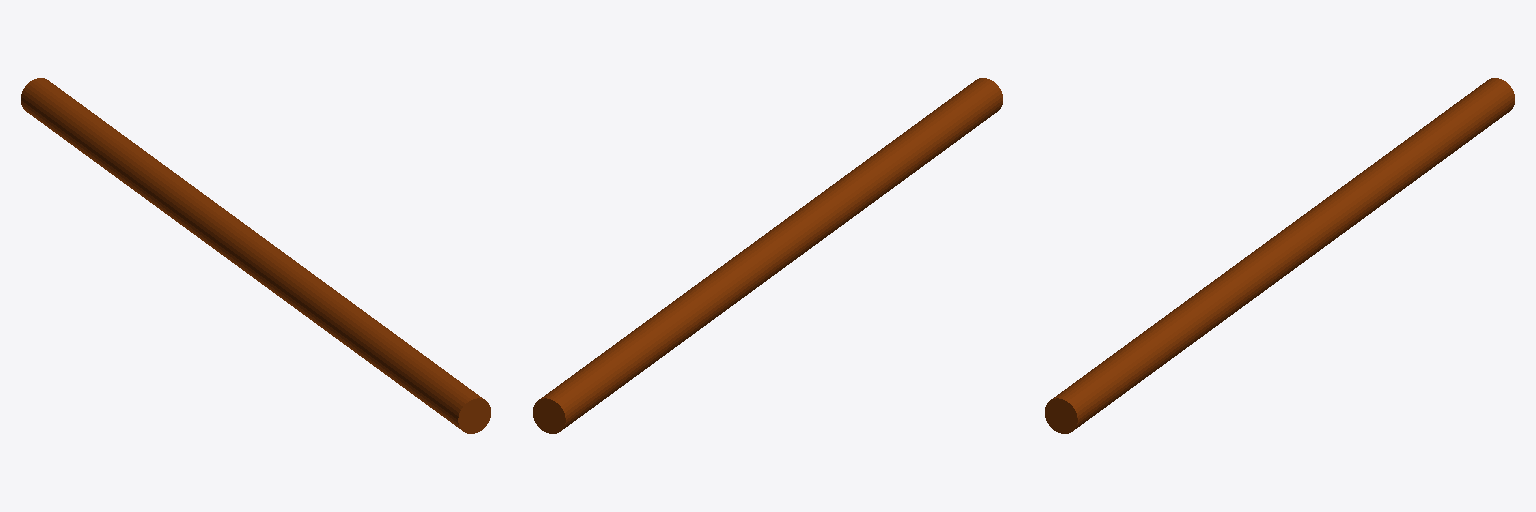
The robot description file, URDF, robot "cylinder":
<?xml version="1.0" ?>
<!-- =================================================================================== -->
<!-- |    This document was autogenerated by xacro from cylinder.xacro                 | -->
<!-- |    EDITING THIS FILE BY HAND IS NOT RECOMMENDED                                 | -->
<!-- =================================================================================== -->
<robot name="cylinder">
  <link name="world"/>
  <link name="base">
    <visual>
      <origin rpy="1.57079633 0 0" xyz="0 0 0"/>
      <geometry>
        <cylinder length="7.07106781185" radius="0.155"/>
      </geometry>
      <material name="cylinder_material">
        <color rgba="0.545 0.271 0.075 1.0"/>
        <texture filename="../textures/tree_bark.jpg"/>
      </material>
    </visual>
    <collision>
      <origin rpy="1.57079633 0 0" xyz="0 0 0"/>
      <geometry>
        <cylinder length="7.07106781185" radius="0.155"/>
      </geometry>
    </collision>
    <inertial>
      <origin rpy="0 0 0" xyz="0 0 0"/>
      <mass value="1"/>
      <inertia ixx="4.172672916648429" ixy="0.0" ixz="0.0" iyy="4.172672916648429" iyz="0.0" izz="24.999999999890573"/>
    </inertial>
  </link>
  <joint name="base_joint" type="fixed">
    <parent link="world"/>
    <child link="base"/>
    <origin rpy="0 0 0" xyz="0.0 0.0 0.0"/>
  </joint>
</robot>

--- Facts derived from the render (not from the file) ---
3 views of the same robot in one strip: view 1: azimuth 30°, elevation 25°; view 2: azimuth 150°, elevation 25°; view 3: azimuth 330°, elevation 25° (orthographic).
Model cylinder with 2 links and 1 joints (1 fixed), rooted at world, posed every joint at zero.
Links seen in each view (by area): view 1: base; view 2: base; view 3: base.
Boxes of the visible links, bbox=[...] form: base: bbox=[21, 78, 490, 433]; base: bbox=[533, 78, 1002, 433]; base: bbox=[1045, 78, 1514, 433].
Size in the robot's own frame: 0.31 by 7.07 by 0.31 metres.
Geometry: primitives only (box / cylinder / sphere), no mesh files.
